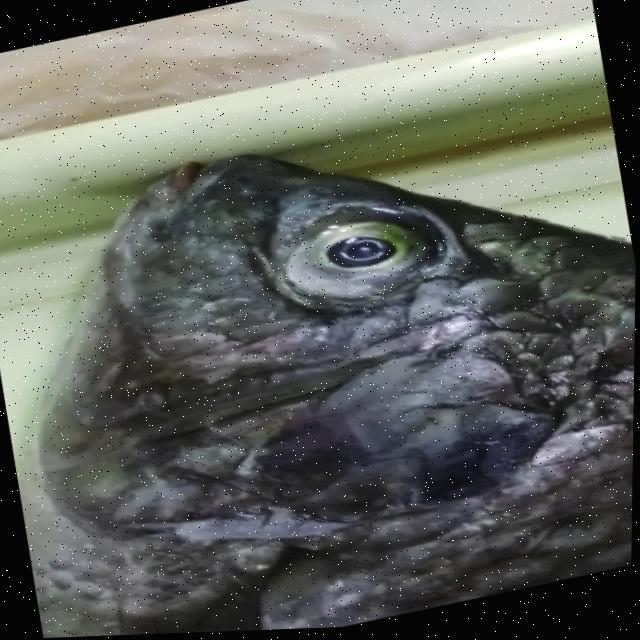Non-Fresh: (224, 150, 500, 365)
